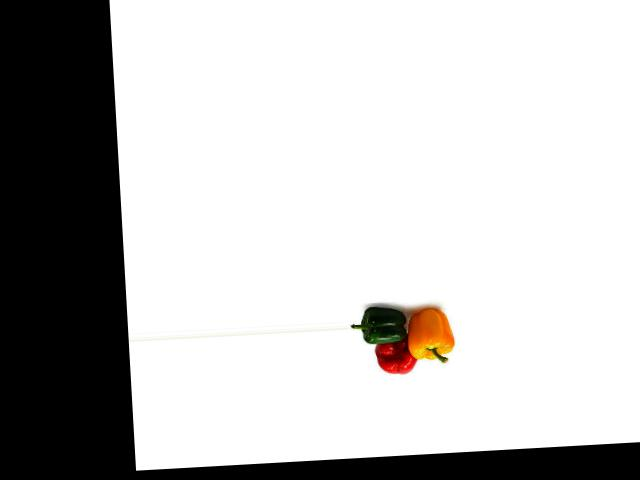bell_pepper: (354, 304, 417, 350)
